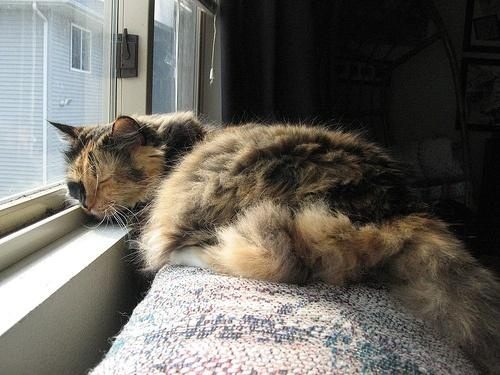cat: (49, 113, 500, 360)
